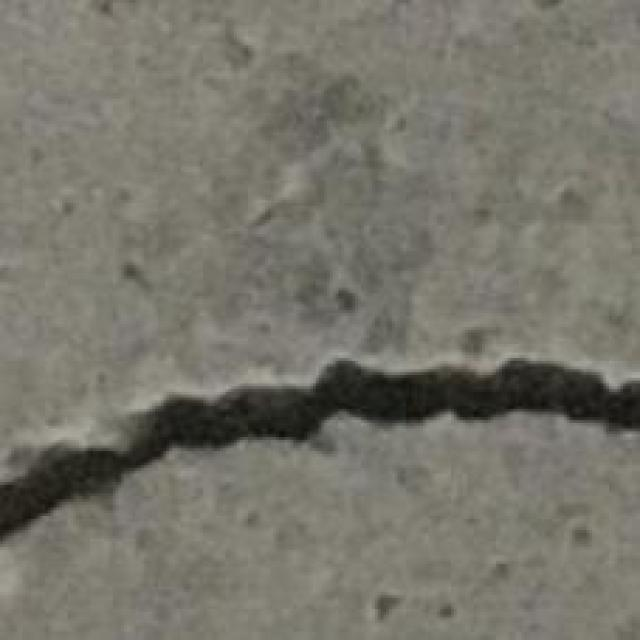Crack: (0, 348, 640, 560)
